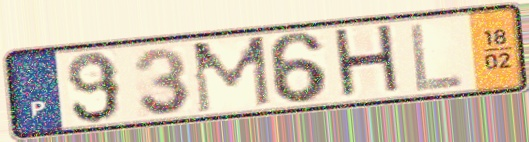3: (130, 44, 194, 118)
6: (266, 30, 332, 106)
9: (64, 50, 124, 126)
H: (330, 21, 406, 103)
L: (406, 20, 467, 95)
M: (189, 33, 274, 117)
